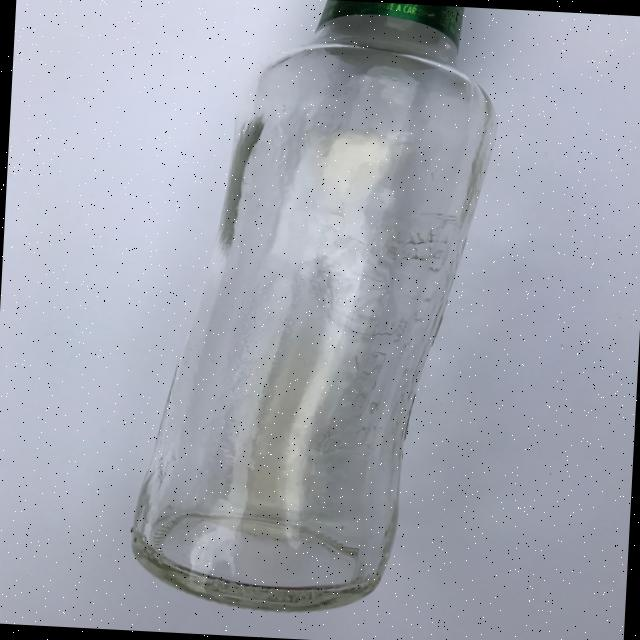glass: (125, 0, 503, 622)
